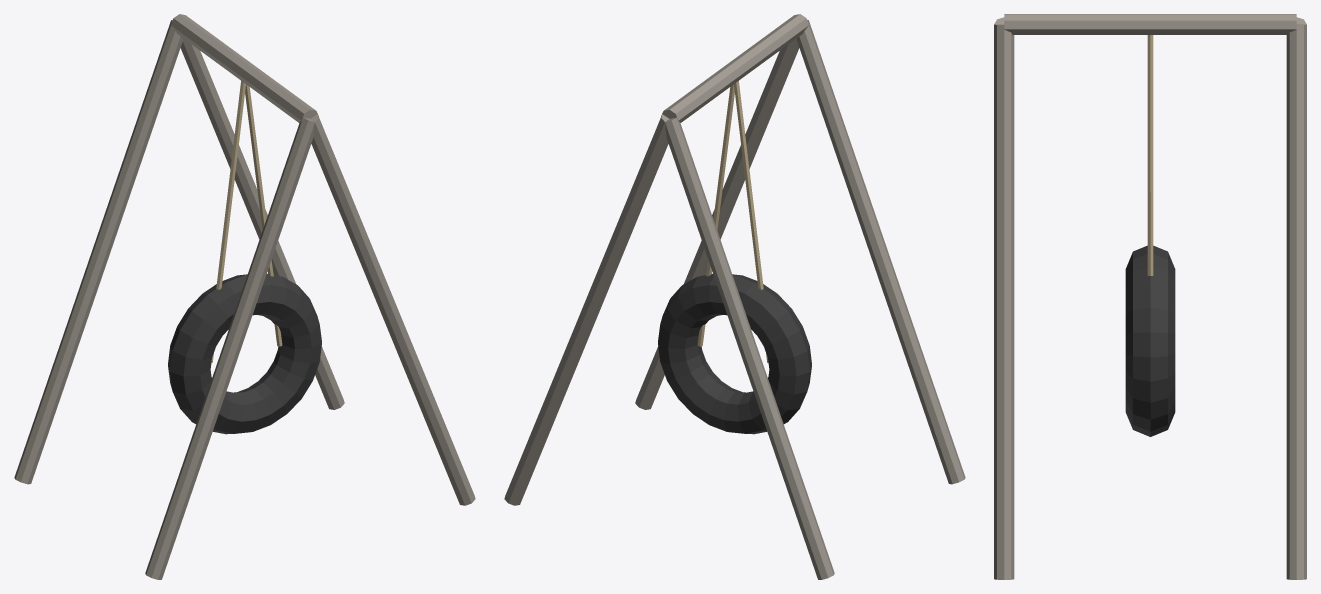
File: tire-swing.glb
3 renders of one model, left to right at view 1: azimuth 30°, elevation 25°; view 2: azimuth 150°, elevation 25°; view 3: azimuth 270°, elevation 25°, orthographic. The views are drawn at different scales.
Parts seen in each view (by area): view 1: tire_swing; view 2: tire_swing; view 3: tire_swing.
Boxes of the visible parts, left/top/right/bottom form: tire_swing: left=14, top=14, right=475, bottom=579; tire_swing: left=504, top=14, right=965, bottom=579; tire_swing: left=994, top=14, right=1306, bottom=579.
Size of the model in its own units: 1.88 by 2.37 by 1.39.
